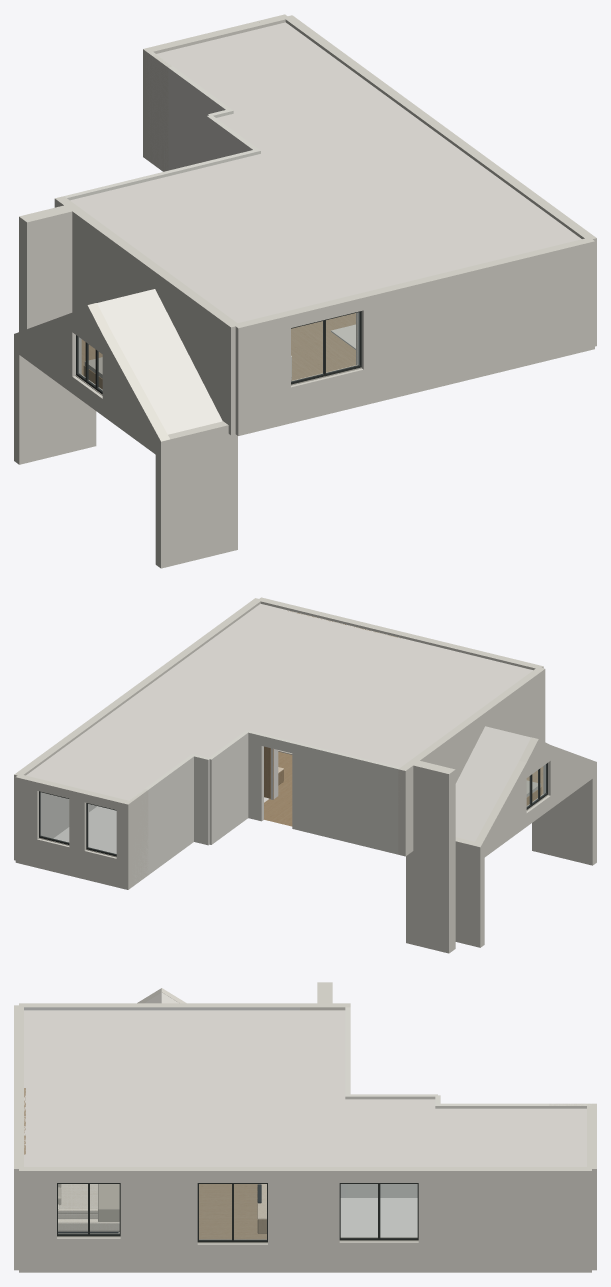
The picture shows the model from 3 angles, top to bottom: view 1: azimuth 30°, elevation 25°; view 2: azimuth 150°, elevation 25°; view 3: azimuth 270°, elevation 25°; orthographic projection. The views are drawn at different scales.
Visible parts, largest first — view 1: Bedroom 02 | ceiling 0, Proposal | New wing south upper end pier.001, Bedroom 02 | ceiling 2, Proposal | Garage wing south return.001, Proposal | West upper principal facade above wing roof.001, Bedroom 02 | retained vault soffit, Proposal | New wing south upper pier 0.001, Proposal | Garage wing north return.001, Proposal | Entrance bay south return.001, Proposal | Guest bathroom west.001, Proposal | New wing south upper window 0 glass.001, Proposal | Continued roof garage wing gable south head 0.001 (+15 smaller); view 2: Bedroom 02 | ceiling 0, Bedroom 02 | ceiling 2, Proposal | Principal suite north partition pier 0.001, Proposal | Entrance bay south return.001, Bedroom 02 | retained vault soffit.001, Proposal | West upper principal facade above wing roof.001, Proposal | Guest bathroom west.001, Proposal | Garage wing south return.001, Proposal | Principal study west wall.001, Proposal | Garage wing north return.001, Proposal | North upper facade east end pier.001, Proposal | Courtyard upper return.001 (+19 smaller); view 3: Bedroom 02 | ceiling 0, Bedroom 02 | ceiling 2, Proposal | New wing east upper end pier.001, Proposal | New wing east upper pier 1.001, Proposal | New wing east upper pier 2.001, Proposal | New wing east upper window 2 glass.001, Proposal | New wing east upper pier 0.001, Proposal | New wing east upper window 1 glass.001, Bedroom 02 | floor 0, Bedroom 02 | floor 2, Proposal | New wing east upper window 0 glass.001, Proposal | New wing east upper sill 2.001 (+14 smaller).
Boxes of the visible parts, x1,y1,x2,y2 form: Bedroom 02 | ceiling 0: (70, 141, 581, 322); Proposal | New wing south upper end pier.001: (358, 237, 594, 405); Bedroom 02 | ceiling 2: (156, 22, 447, 178); Proposal | Garage wing south return.001: (155, 421, 237, 568); Proposal | West upper principal facade above wing roof.001: (81, 216, 237, 421); Bedroom 02 | retained vault soffit: (97, 289, 222, 434); Proposal | New wing south upper pier 0.001: (233, 311, 290, 435); Proposal | Garage wing north return.001: (14, 335, 96, 464); Proposal | Entrance bay south return.001: (19, 203, 81, 331); Proposal | Guest bathroom west.001: (145, 50, 231, 171); Proposal | New wing south upper window 0 glass.001: (291, 312, 359, 381); Proposal | Continued roof garage wing gable south head 0.001: (102, 332, 169, 441); Bedroom 02 | ceiling 0: (152, 603, 532, 767); Bedroom 02 | ceiling 2: (26, 683, 272, 800); Proposal | Principal suite north partition pier 0.001: (292, 741, 401, 854); Proposal | Entrance bay south return.001: (406, 761, 455, 953); Bedroom 02 | retained vault soffit.001: (455, 726, 530, 841); Proposal | West upper principal facade above wing roof.001: (420, 668, 543, 774); Proposal | Guest bathroom west.001: (128, 754, 193, 885); Proposal | Garage wing south return.001: (532, 763, 596, 865); Proposal | Principal study west wall.001: (208, 730, 248, 844); Proposal | Garage wing north return.001: (455, 837, 484, 947); Proposal | North upper facade east end pier.001: (15, 774, 41, 867); Proposal | Courtyard upper return.001: (124, 789, 148, 889); Bedroom 02 | ceiling 0: (24, 1010, 345, 1166); Bedroom 02 | ceiling 2: (282, 1099, 586, 1166); Proposal | New wing east upper end pier.001: (418, 1167, 591, 1272); Proposal | New wing east upper pier 1.001: (120, 1167, 197, 1272); Proposal | New wing east upper pier 2.001: (268, 1167, 339, 1272); Proposal | New wing east upper window 2 glass.001: (341, 1184, 417, 1237); Proposal | New wing east upper pier 0.001: (19, 1167, 56, 1272); Proposal | New wing east upper window 1 glass.001: (199, 1184, 266, 1239); Bedroom 02 | floor 0: (199, 1184, 266, 1239); Bedroom 02 | floor 2: (340, 1198, 417, 1237); Proposal | New wing east upper window 0 glass.001: (58, 1184, 119, 1233); Proposal | New wing east upper sill 2.001: (339, 1241, 418, 1272).
Size of the model in its own units: 10.72 by 5.35 by 13.28.
25 materials, 3 textured.
